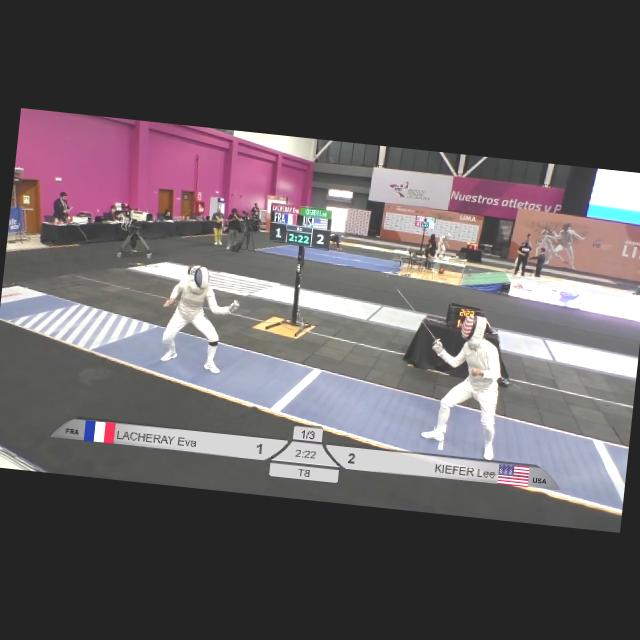blade: (374, 270, 452, 348), (226, 274, 272, 316)
